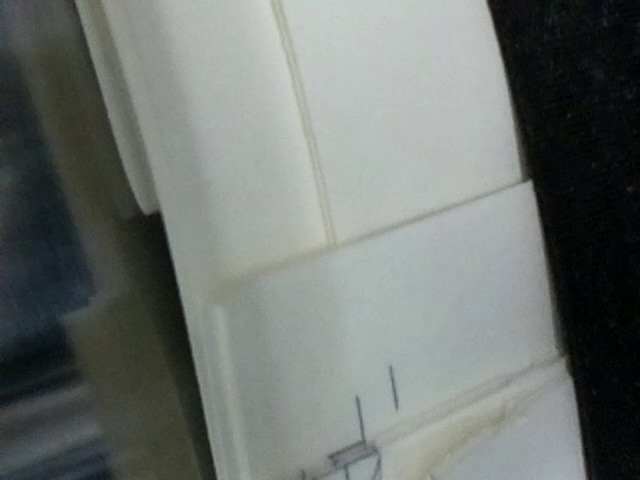misaligned: (290, 393, 385, 480)
